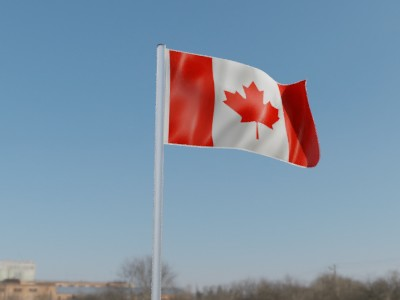Canada flag: (165, 46, 325, 172)
